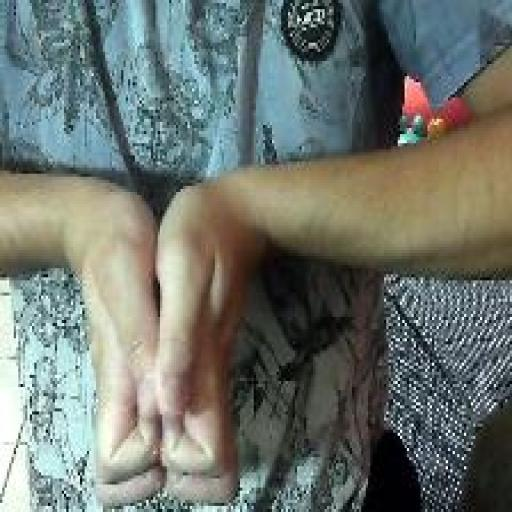I -boar-: (77, 169, 241, 511)
